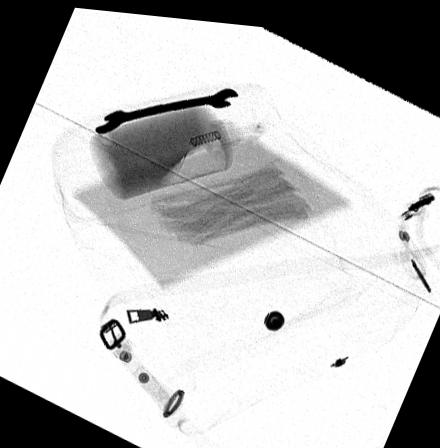Wrench: (93, 82, 238, 133)
